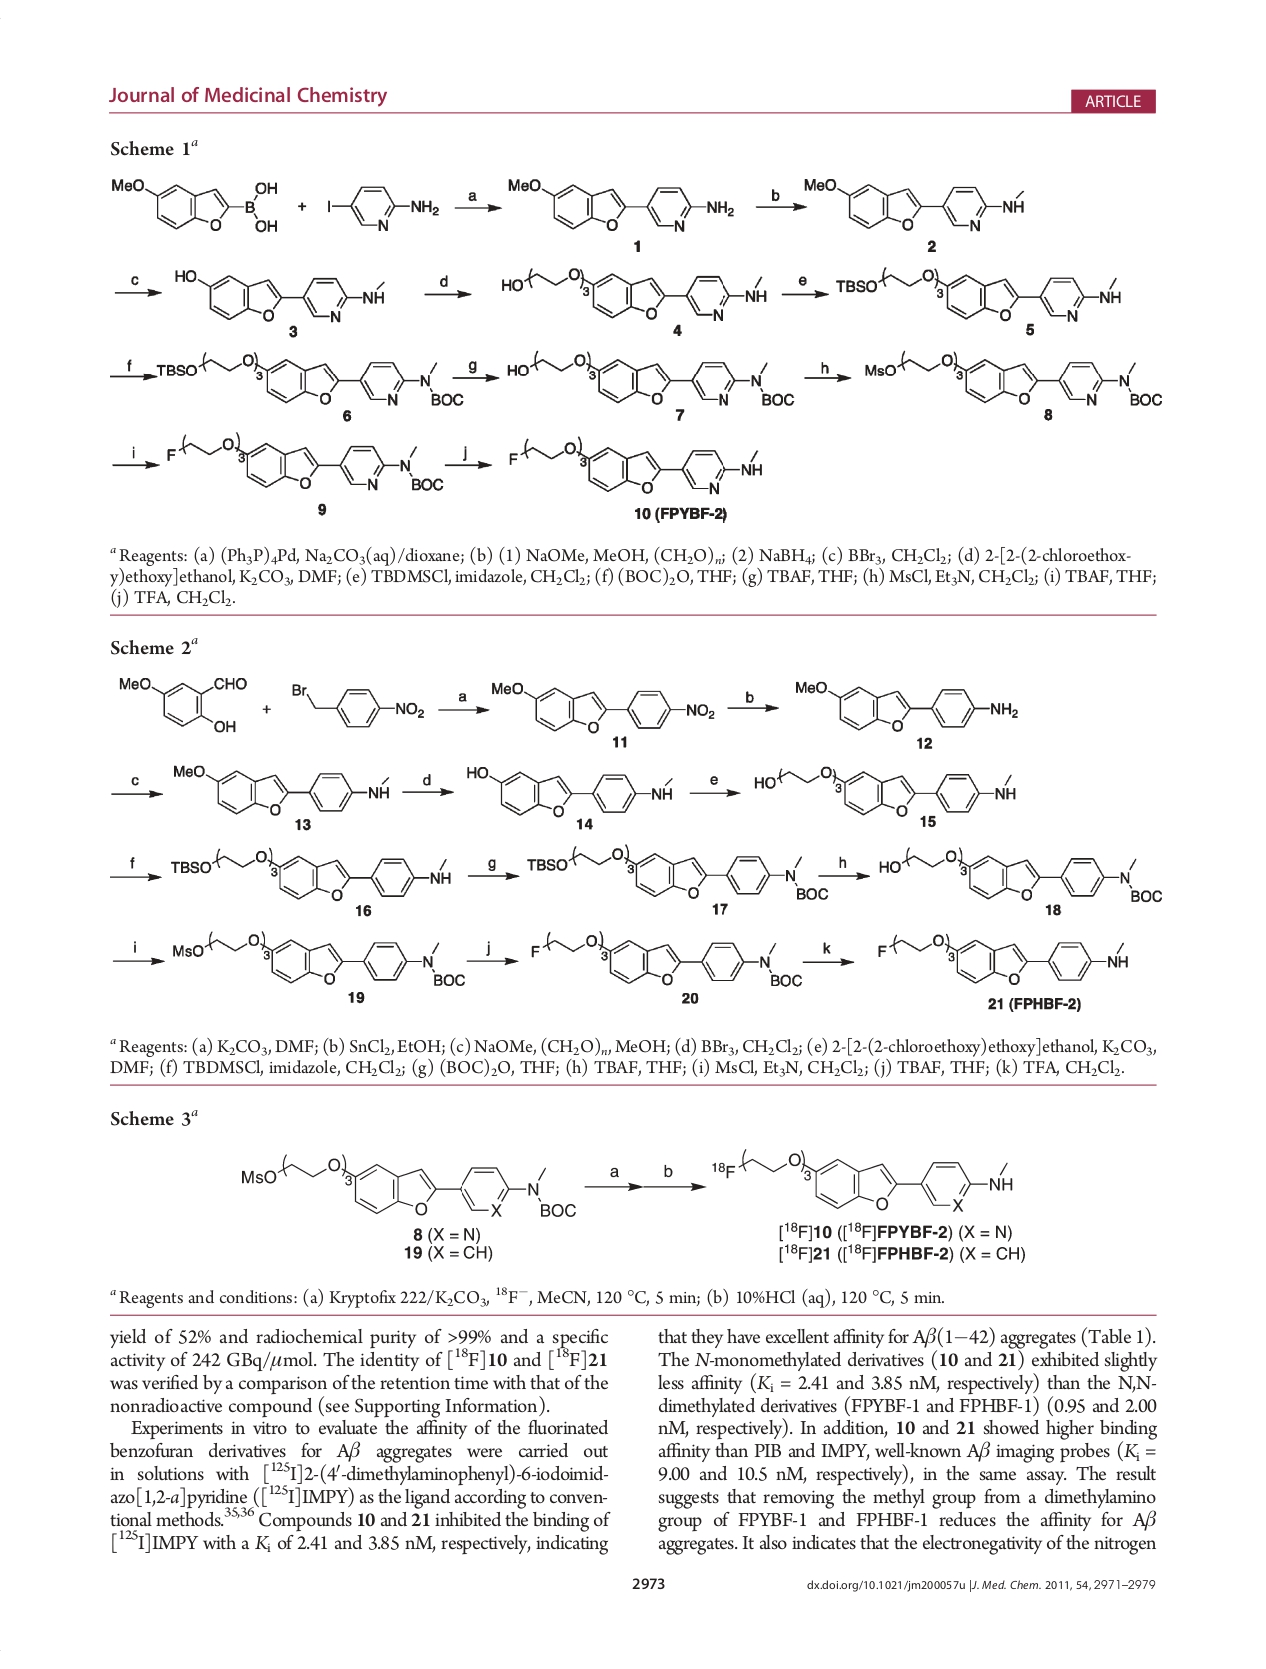exist_molecular: (237, 1149, 581, 1222), (709, 1142, 1015, 1212), (828, 257, 1122, 323), (168, 924, 467, 989), (156, 347, 465, 410), (525, 839, 828, 902), (860, 346, 1165, 407), (875, 842, 1164, 906), (527, 924, 803, 989), (501, 348, 795, 410), (166, 430, 445, 493), (496, 262, 771, 323), (504, 434, 766, 497), (168, 847, 456, 902), (872, 927, 1132, 987), (501, 170, 737, 233), (750, 762, 1019, 817), (802, 170, 1027, 231), (166, 757, 394, 817), (489, 677, 717, 735), (793, 677, 1020, 735), (173, 265, 390, 324), (465, 758, 676, 817), (106, 172, 283, 239), (117, 670, 250, 737), (285, 676, 430, 735), (322, 182, 442, 237)
